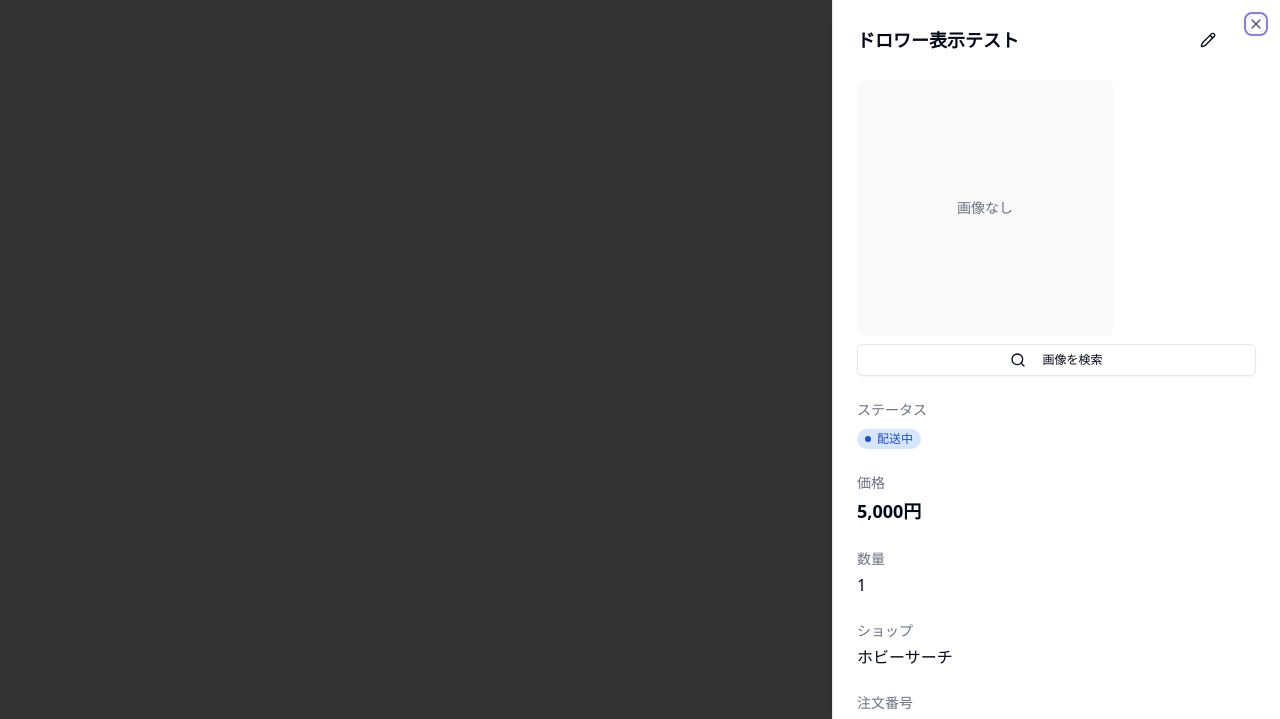
Scenario: OrderItemDrawer › handleSave - Edit Mode › enters edit mode when pencil button is clicked
This screenshot has width=1280, height=719.
Click the button titled "編集": (1208, 40) [1192,24,1224,56]
(page scrolled)
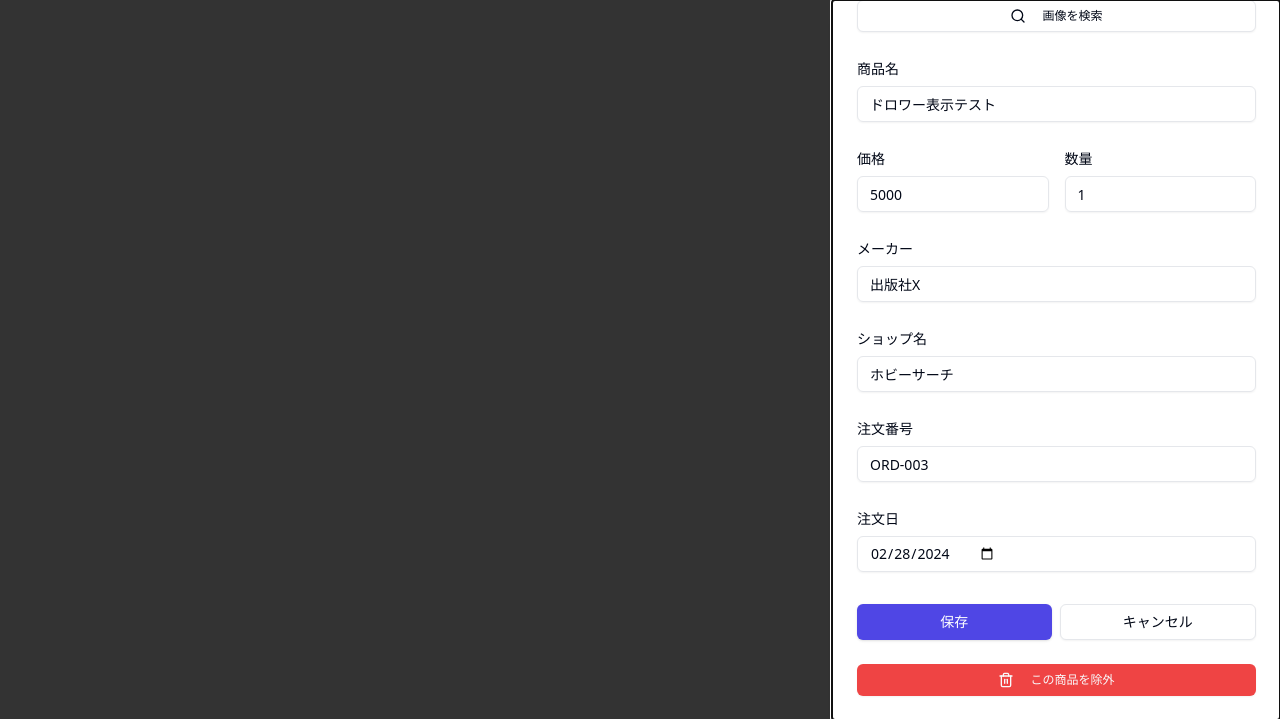
Expected: the field labelled "商品名" is shown, [857,86,1256,122]
Expected: the number field labelled "価格" is shown, [857,176,1048,212]
Expected: the number field labelled "数量" is shown, [1064,176,1256,212]
